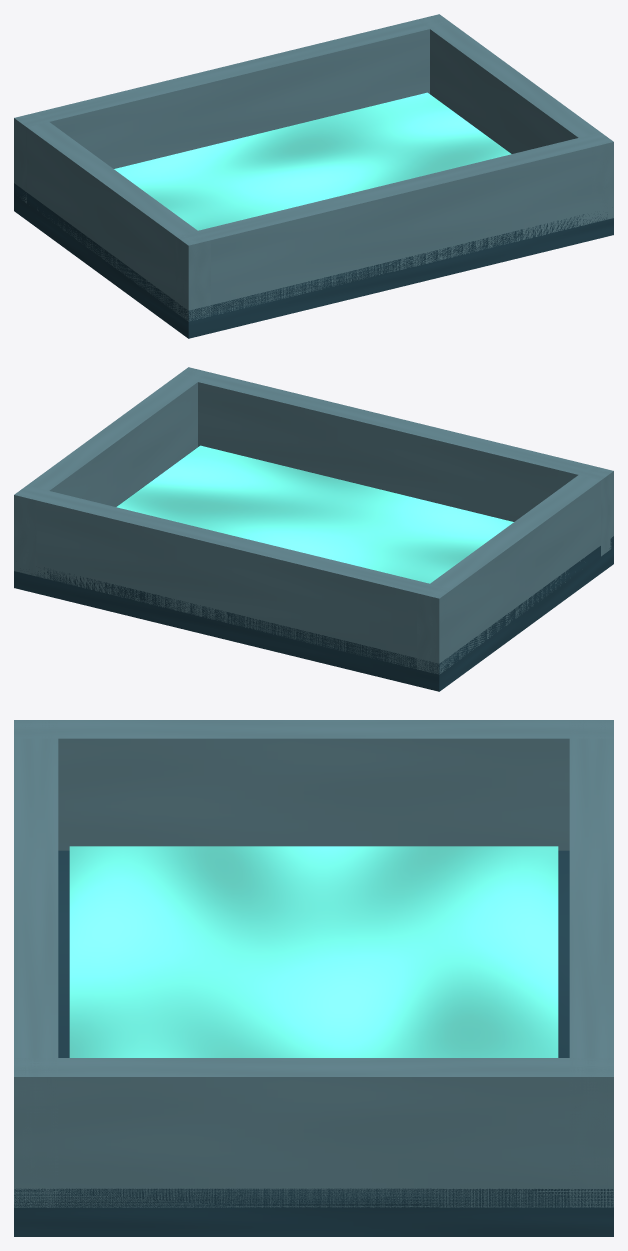
File: atlas100-s068-a02.lod2.glb
3 renders of one model, top to bottom at view 1: azimuth 30°, elevation 25°; view 2: azimuth 150°, elevation 25°; view 3: azimuth 270°, elevation 25°, orthographic. The views are drawn at different scales.
Parts seen in each view (by area): view 1: atlas100-s068-a02:part-005, atlas100-s068-a02:part-004, atlas100-s068-a02:part-001, atlas100-s068-a02:part-002, atlas100-s068-a02:part-000, atlas100-s068-a02:part-003; view 2: atlas100-s068-a02:part-004, atlas100-s068-a02:part-005, atlas100-s068-a02:part-001, atlas100-s068-a02:part-002, atlas100-s068-a02:part-000, atlas100-s068-a02:part-003; view 3: atlas100-s068-a02:part-001, atlas100-s068-a02:part-003, atlas100-s068-a02:part-002, atlas100-s068-a02:part-000, atlas100-s068-a02:part-004, atlas100-s068-a02:part-005.
Part boxes in pixels (bbox=[...]): atlas100-s068-a02:part-005: bbox=[175, 132, 613, 320]; atlas100-s068-a02:part-004: bbox=[14, 14, 450, 203]; atlas100-s068-a02:part-001: bbox=[114, 92, 511, 230]; atlas100-s068-a02:part-002: bbox=[14, 112, 210, 321]; atlas100-s068-a02:part-000: bbox=[14, 94, 613, 338]; atlas100-s068-a02:part-003: bbox=[418, 14, 613, 220]; atlas100-s068-a02:part-004: bbox=[14, 485, 452, 673]; atlas100-s068-a02:part-005: bbox=[176, 367, 613, 556]; atlas100-s068-a02:part-001: bbox=[116, 445, 513, 583]; atlas100-s068-a02:part-002: bbox=[417, 465, 613, 674]; atlas100-s068-a02:part-000: bbox=[14, 447, 613, 691]; atlas100-s068-a02:part-003: bbox=[14, 367, 210, 576]; atlas100-s068-a02:part-001: bbox=[69, 846, 558, 1057]; atlas100-s068-a02:part-003: bbox=[14, 1058, 613, 1207]; atlas100-s068-a02:part-002: bbox=[14, 720, 613, 850]; atlas100-s068-a02:part-000: bbox=[14, 850, 613, 1236]; atlas100-s068-a02:part-004: bbox=[569, 720, 613, 1207]; atlas100-s068-a02:part-005: bbox=[14, 720, 58, 1207].
Bounding box in the file's own units: 3.8 × 0.795 × 2.7.
3 materials, 3 textured.
